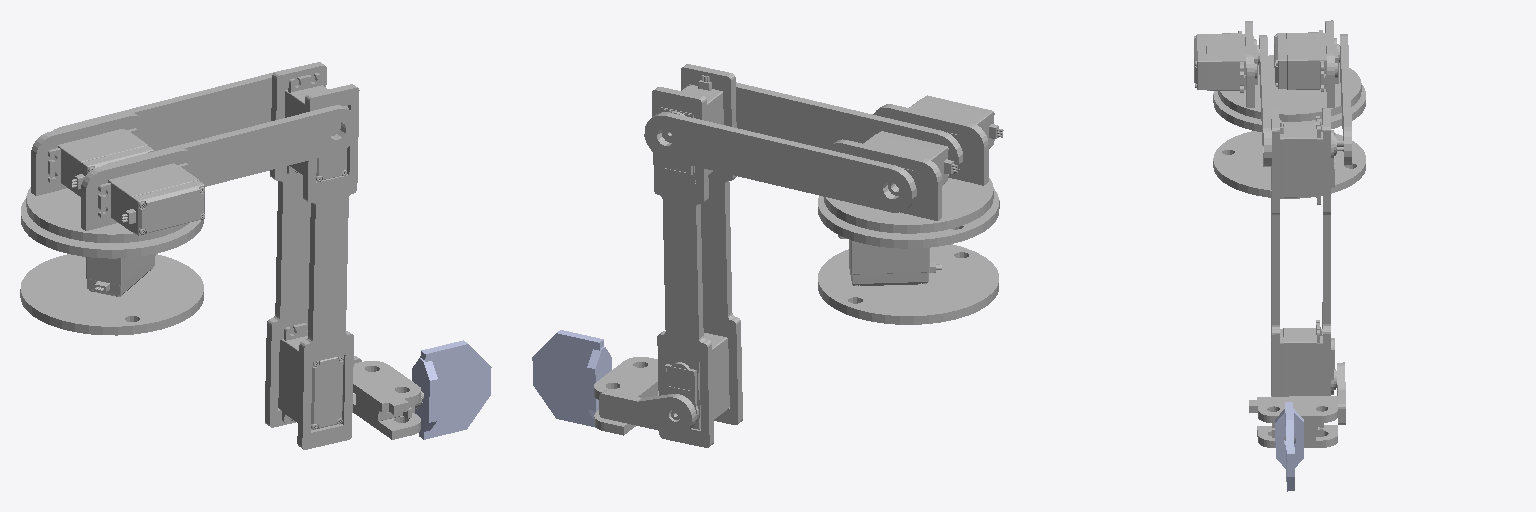
robot.urdf — hamada6:
<?xml version="1.0" encoding="utf-8"?>
<!-- This URDF was automatically created by SolidWorks to URDF Exporter! Originally created by [author] ([email redacted]) 
     Commit Version: 1.6.0-4-g7f85cfe  Build Version: 1.6.7995.38578
     For more information, please see http://wiki.ros.org/sw_urdf_exporter -->
<robot
  name="hamada6">
  <link
    name="link_1">
    <inertial>
      <origin
        xyz="0.00261306737105332 0.00176360082278715 0.0246576821934029"
        rpy="0 0 0" />
      <mass
        value="0.102051350617011" />
      <inertia
        ixx="4.53483179209199E-05"
        ixy="-1.66441238128771E-06"
        ixz="9.96133751046813E-09"
        iyy="4.67454236866282E-05"
        iyz="6.7230613232731E-09"
        izz="8.40832800892524E-05" />
    </inertial>
    <visual>
      <origin
        xyz="0 0 0"
        rpy="0 0 0" />
      <geometry>
        <mesh
          filename="package://hamada6/meshes/link_1.STL" />
      </geometry>
      <material
        name="">
        <color
          rgba="0.752941176470588 0.752941176470588 0.752941176470588 1" />
      </material>
    </visual>
    <collision>
      <origin
        xyz="0 0 0"
        rpy="0 0 0" />
      <geometry>
        <mesh
          filename="package://hamada6/meshes/link_1.STL" />
      </geometry>
    </collision>
  </link>
  <link
    name="link_2">
    <inertial>
      <origin
        xyz="-0.0054198177814474 -0.00713565163368579 0.0372570958666508"
        rpy="0 0 0" />
      <mass
        value="0.107656182888474" />
      <inertia
        ixx="2.98005643749831E-05"
        ixy="4.51259577194389E-06"
        ixz="-2.02176559086076E-14"
        iyy="3.12790794980954E-05"
        iyz="2.38545882667911E-14"
        izz="5.28046334626354E-05" />
    </inertial>
    <visual>
      <origin
        xyz="0 0 0"
        rpy="0 0 0" />
      <geometry>
        <mesh
          filename="package://hamada6/meshes/link_2.STL" />
      </geometry>
      <material
        name="">
        <color
          rgba="0.752941176470588 0.752941176470588 0.752941176470588 1" />
      </material>
    </visual>
    <collision>
      <origin
        xyz="0 0 0"
        rpy="0 0 0" />
      <geometry>
        <mesh
          filename="package://hamada6/meshes/link_2.STL" />
      </geometry>
    </collision>
  </link>
  <joint
    name="joint_1"
    type="revolute">
    <origin
      xyz="0 0 0.0296901731651757"
      rpy="0 0 0.719700911690755" />
    <parent
      link="link_1" />
    <child
      link="link_2" />
    <axis
      xyz="0 0 -1" />
    <limit
      lower="0"
      upper="3.14"
      effort="0"
      velocity="0" />
  </joint>
  <link
    name="link_3">
    <inertial>
      <origin
        xyz="0.0423163334235897 -0.0523998100003235 -0.00879999999999903"
        rpy="0 0 0" />
      <mass
        value="0.0370879421944392" />
      <inertia
        ixx="4.31107402199934E-05"
        ixy="3.33899547200555E-05"
        ixz="3.14196283872142E-20"
        iyy="2.91474022387834E-05"
        iyz="-2.68668262957223E-20"
        izz="7.21036093662999E-05" />
    </inertial>
    <visual>
      <origin
        xyz="0 0 0"
        rpy="0 0 0" />
      <geometry>
        <mesh
          filename="package://hamada6/meshes/link_3.STL" />
      </geometry>
      <material
        name="">
        <color
          rgba="0.752941176470588 0.752941176470588 0.752941176470588 1" />
      </material>
    </visual>
    <collision>
      <origin
        xyz="0 0 0"
        rpy="0 0 0" />
      <geometry>
        <mesh
          filename="package://hamada6/meshes/link_3.STL" />
      </geometry>
    </collision>
  </link>
  <joint
    name="joint_2"
    type="revolute">
    <origin
      xyz="-0.00740908206591206 0.00626063119346032 0.0425098268348305"
      rpy="1.5707963267949 -0.889725104086476 -0.701580737022399" />
    <parent
      link="link_2" />
    <child
      link="link_3" />
    <axis
      xyz="0 0 1" />
    <limit
      lower="0"
      upper="3.14"
      effort="0"
      velocity="0" />
  </joint>
  <link
    name="link_4">
    <inertial>
      <origin
        xyz="-0.0611115173353387 -0.0527057739927693 -0.00582377662014677"
        rpy="0 0 0" />
      <mass
        value="0.101885412050416" />
      <inertia
        ixx="6.23695794257442E-05"
        ixy="-5.77752543988617E-05"
        ixz="1.04470290857267E-16"
        iyy="7.9908667477527E-05"
        iyz="6.56679762413433E-16"
        izz="0.000126683229232314" />
    </inertial>
    <visual>
      <origin
        xyz="0 0 0"
        rpy="0 0 0" />
      <geometry>
        <mesh
          filename="package://hamada6/meshes/link_4.STL" />
      </geometry>
      <material
        name="">
        <color
          rgba="0.752941176470588 0.752941176470588 0.752941176470588 1" />
      </material>
    </visual>
    <collision>
      <origin
        xyz="0 0 0"
        rpy="0 0 0" />
      <geometry>
        <mesh
          filename="package://hamada6/meshes/link_4.STL" />
      </geometry>
    </collision>
  </link>
  <joint
    name="joint_3"
    type="revolute">
    <origin
      xyz="0.085131998178969 -0.104773770028839 0"
      rpy="0 0 -0.0517082154976768" />
    <parent
      link="link_3" />
    <child
      link="link_4" />
    <axis
      xyz="0 0 1" />
    <limit
      lower="0"
      upper="3.14"
      effort="0"
      velocity="0" />
  </joint>
  <link
    name="link_5">
    <inertial>
      <origin
        xyz="-0.0129199786418717 -0.0351360790165315 -0.00789373945016625"
        rpy="0 0 0" />
      <mass
        value="0.0188771162900397" />
      <inertia
        ixx="4.36784009094124E-06"
        ixy="-3.42805424787844E-07"
        ixz="7.16150885936188E-09"
        iyy="2.9410068773853E-06"
        iyz="4.32546241726917E-08"
        izz="1.94038512846246E-06" />
    </inertial>
    <visual>
      <origin
        xyz="0 0 0"
        rpy="0 0 0" />
      <geometry>
        <mesh
          filename="package://hamada6/meshes/link_5.STL" />
      </geometry>
      <material
        name="">
        <color
          rgba="0.752941176470588 0.752941176470588 0.752941176470588 1" />
      </material>
    </visual>
    <collision>
      <origin
        xyz="0 0 0"
        rpy="0 0 0" />
      <geometry>
        <mesh
          filename="package://hamada6/meshes/link_5.STL" />
      </geometry>
    </collision>
  </link>
  <joint
    name="joint_4"
    type="revolute">
    <origin
      xyz="-0.12211 -0.10555 0"
      rpy="0 0 0.88441" />
    <parent
      link="link_4" />
    <child
      link="link_5" />
    <axis
      xyz="0 0 1" />
    <limit
      lower="-3.14"
      upper="0"
      effort="0"
      velocity="0" />
  </joint>
  <link
    name="link_6">
    <inertial>
      <origin
        xyz="1.04083408558608E-17 1.11022302462516E-16 0.0157337325896775"
        rpy="0 0 0" />
      <mass
        value="0.0108008005786752" />
      <inertia
        ixx="1.55920828038824E-06"
        ixy="3.93737971575241E-22"
        ixz="2.60019055677216E-22"
        iyy="3.21670063590669E-06"
        iyz="4.63221143029695E-23"
        izz="1.82515770809202E-06" />
    </inertial>
    <visual>
      <origin
        xyz="0 0 0"
        rpy="0 0 0" />
      <geometry>
        <mesh
          filename="package://hamada6/meshes/link_6.STL" />
      </geometry>
      <material
        name="">
        <color
          rgba="0.792156862745098 0.819607843137255 0.933333333333333 1" />
      </material>
    </visual>
    <collision>
      <origin
        xyz="0 0 0"
        rpy="0 0 0" />
      <geometry>
        <mesh
          filename="package://hamada6/meshes/link_6.STL" />
      </geometry>
    </collision>
  </link>
  <joint
    name="joint_5"
    type="revolute">
    <origin
      xyz="-0.0194964326657436 -0.0595960887898847 0.00350000000000272"
      rpy="1.57079632679489 -0.0137910447247329 -0.164077877210891" />
    <parent
      link="link_5" />
    <child
      link="link_6" />
    <axis
      xyz="0 0 -1" />
    <limit
      lower="0"
      upper="3.14"
      effort="0"
      velocity="0" />
  </joint>
</robot>

--- Facts derived from the render (not from the file) ---
Views: 3 orthographic renders of the robot side by side, from view 1: azimuth 30°, elevation 25°; view 2: azimuth 150°, elevation 25°; view 3: azimuth 270°, elevation 25°.
Robot: hamada6 — 6 links, 5 joints (5 revolute); root link link_1; default pose: every joint at zero.
Visible links, largest first — view 1: link_4, link_2, link_1, link_3, link_6, link_5; view 2: link_4, link_3, link_1, link_2, link_5, link_6; view 3: link_4, link_2, link_1, link_5, link_3, link_6.
Link boxes in pixels (box(x1,y1,x2,y2)): link_4: box(265, 62, 359, 449); link_2: box(26, 112, 204, 242); link_1: box(20, 199, 203, 335); link_3: box(53, 70, 357, 186); link_6: box(412, 340, 491, 439); link_5: box(265, 356, 423, 439); link_4: box(652, 64, 742, 447); link_3: box(644, 82, 962, 212); link_1: box(818, 189, 999, 324); link_2: box(824, 95, 1003, 233); link_5: box(594, 357, 696, 435); link_6: box(532, 330, 611, 427); link_4: box(1271, 108, 1343, 396); link_2: box(1194, 20, 1361, 121); link_1: box(1213, 85, 1365, 198); link_5: box(1249, 362, 1345, 447); link_3: box(1259, 34, 1351, 166); link_6: box(1275, 402, 1303, 491).
Bounding box of the posed robot: 0.2728 × 0.1072 × 0.2161 m (x, y, z).
Meshes: 6 distinct files referenced, 6 mesh visuals loaded (6 binary STL).
